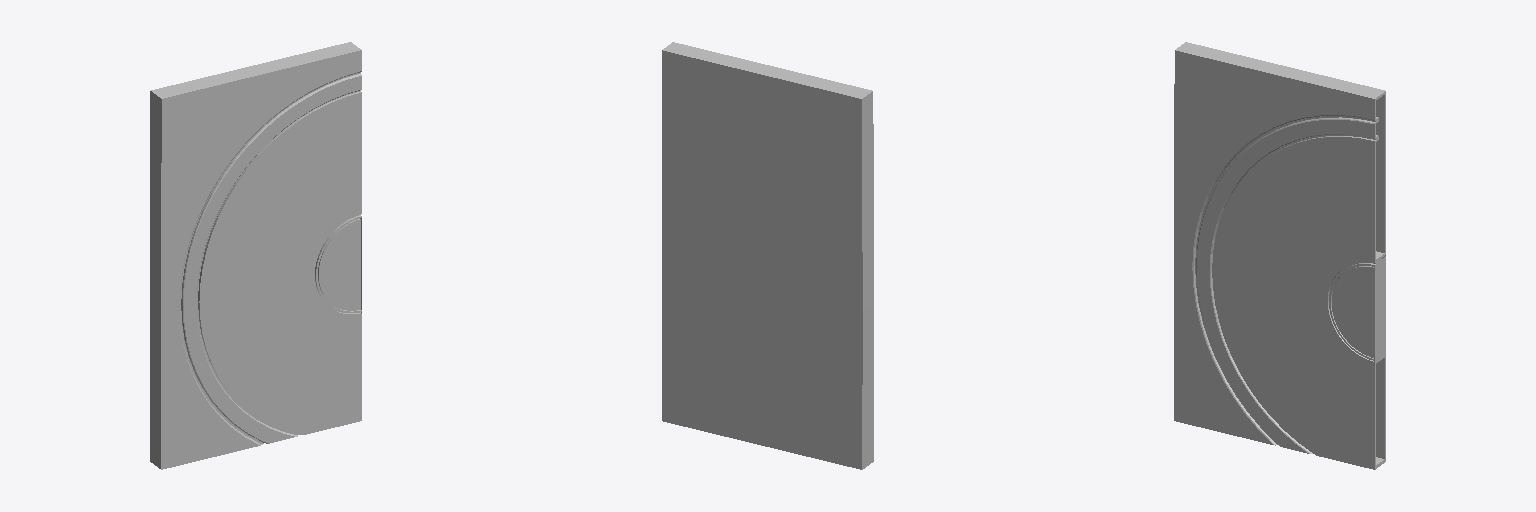
Rendered from portaldoor_left.obj.
3 views of the same model, side by side, from view 1: azimuth 30°, elevation 25°; view 2: azimuth 150°, elevation 25°; view 3: azimuth 330°, elevation 25° (orthographic).
Parts seen in each view (by area): view 1: portal_door_model.001; view 2: portal_door_model.001; view 3: portal_door_model.001.
Part boxes in pixels (left/top/right/bottom): portal_door_model.001: left=150, top=42, right=361, bottom=469; portal_door_model.001: left=662, top=42, right=873, bottom=469; portal_door_model.001: left=1174, top=42, right=1385, bottom=469.
Size of the model in its own units: 2.96 by 5.23 by 0.2959.